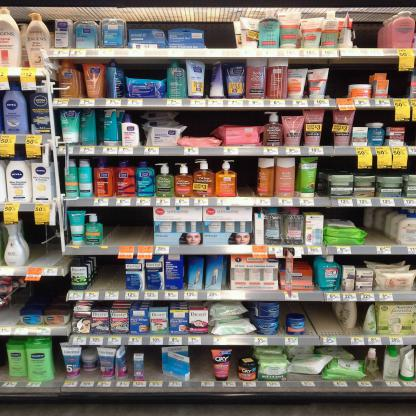Void: (107, 209, 150, 241), (30, 223, 60, 264), (360, 209, 389, 241), (310, 299, 337, 333), (205, 14, 237, 42), (96, 257, 122, 287), (238, 161, 258, 193), (127, 62, 165, 77), (360, 16, 380, 44), (147, 350, 164, 377), (194, 347, 209, 377), (333, 65, 345, 99), (394, 70, 411, 93), (348, 68, 368, 80)
